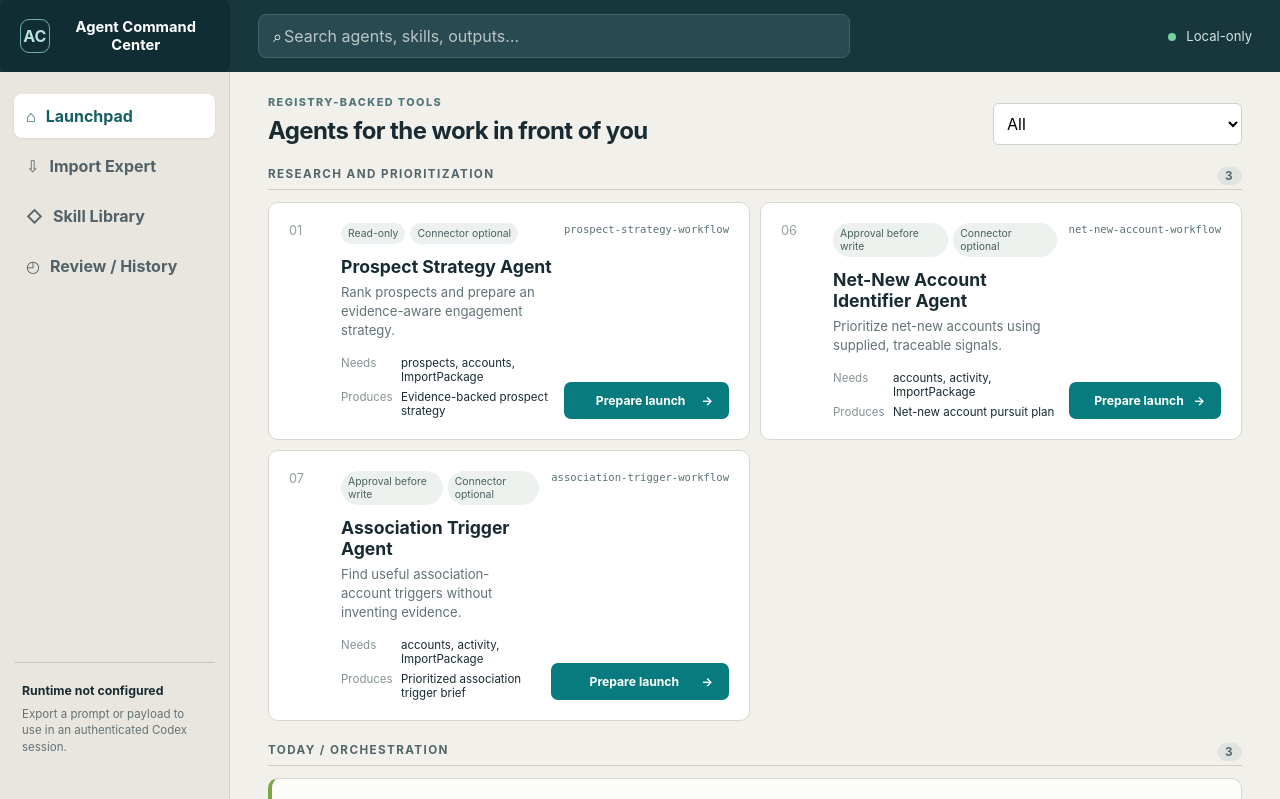
Test: renders all registry-backed agents and honest export actions
(page scrolled)
Click the button "Prepare launch →" below "prospect-strategy-workflow": [646, 400] box [564,382,729,419]
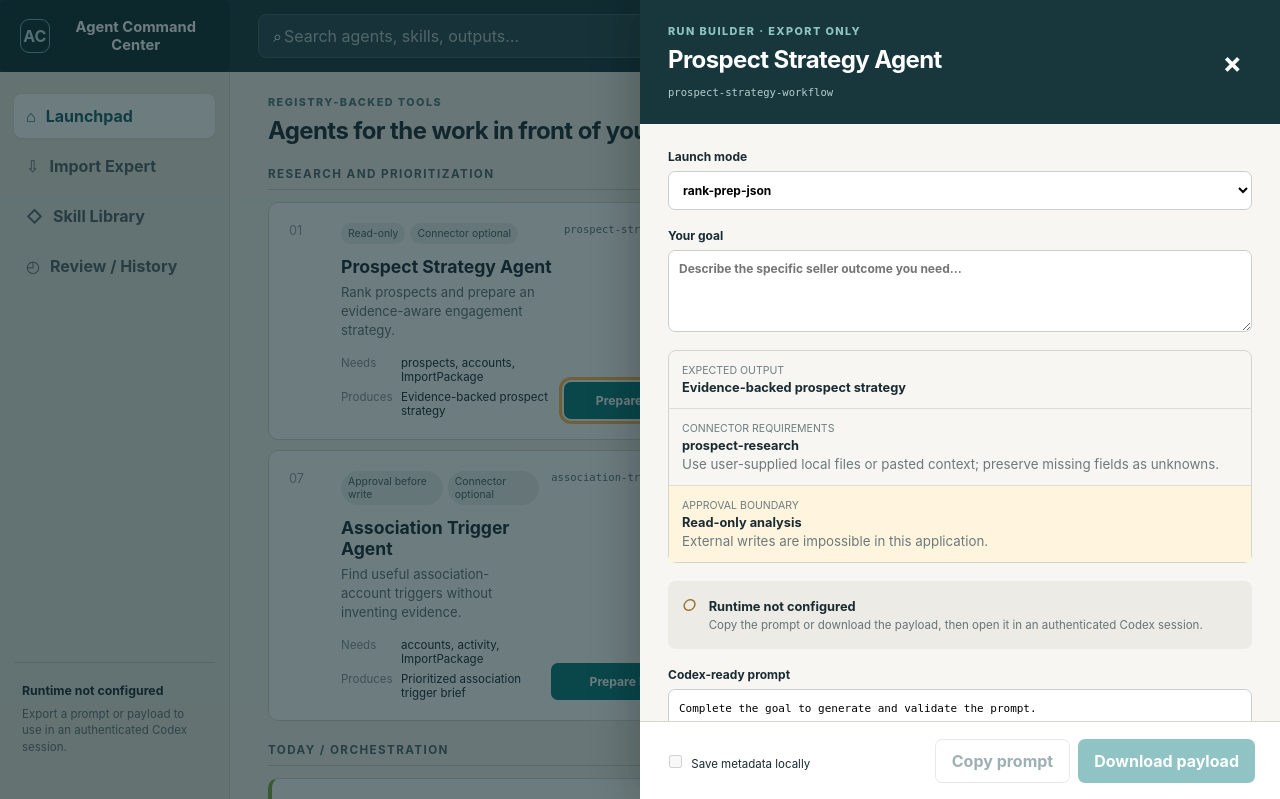
Expected: the dialog shows "Runtime not configured", [709,599,856,614]
Expected: the button "Download payload" is disabled, [1078,739,1255,783]
